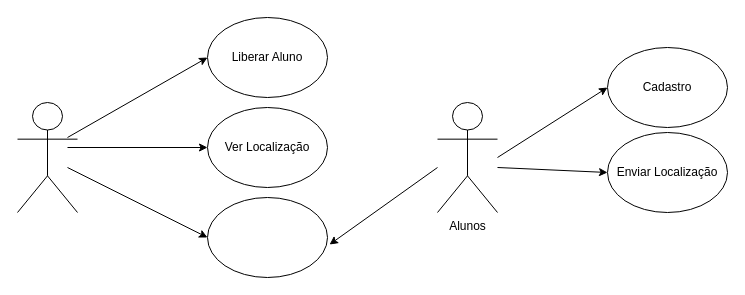
Some shapes in this 745 by 295 pixel diagram are drawn without their labels. Here are the shapes that lost their labels. From the top down, the centre of each, then its label:
[47,157]: Pais
[267,237]: Login
